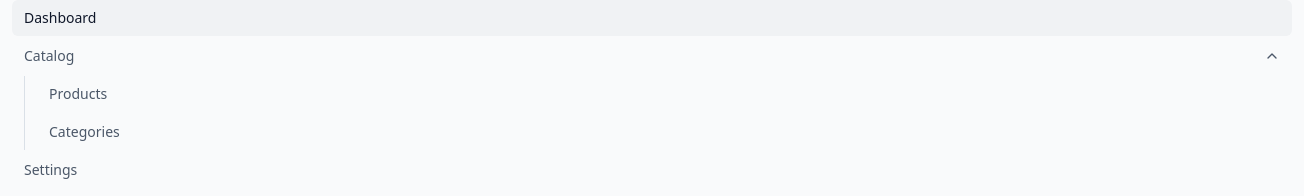
Test case: Menu › group is expanded by default; toggling collapses it
Expected: the link "Products" is shown, [49,84,107,103]
Click the button "Catalog".
click(49, 56)  # box [12,38,1292,74]
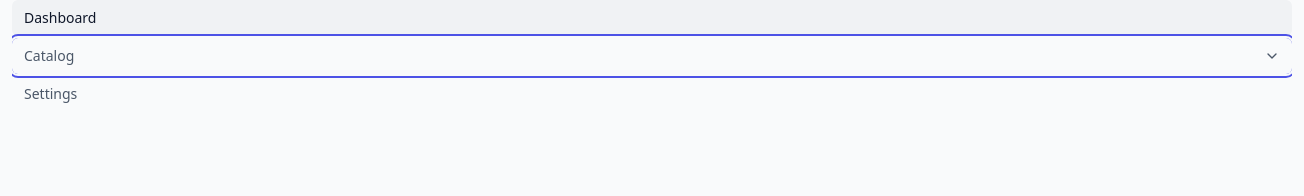
Now the button "Catalog" is collapsed, box [12,38,1292,74]
